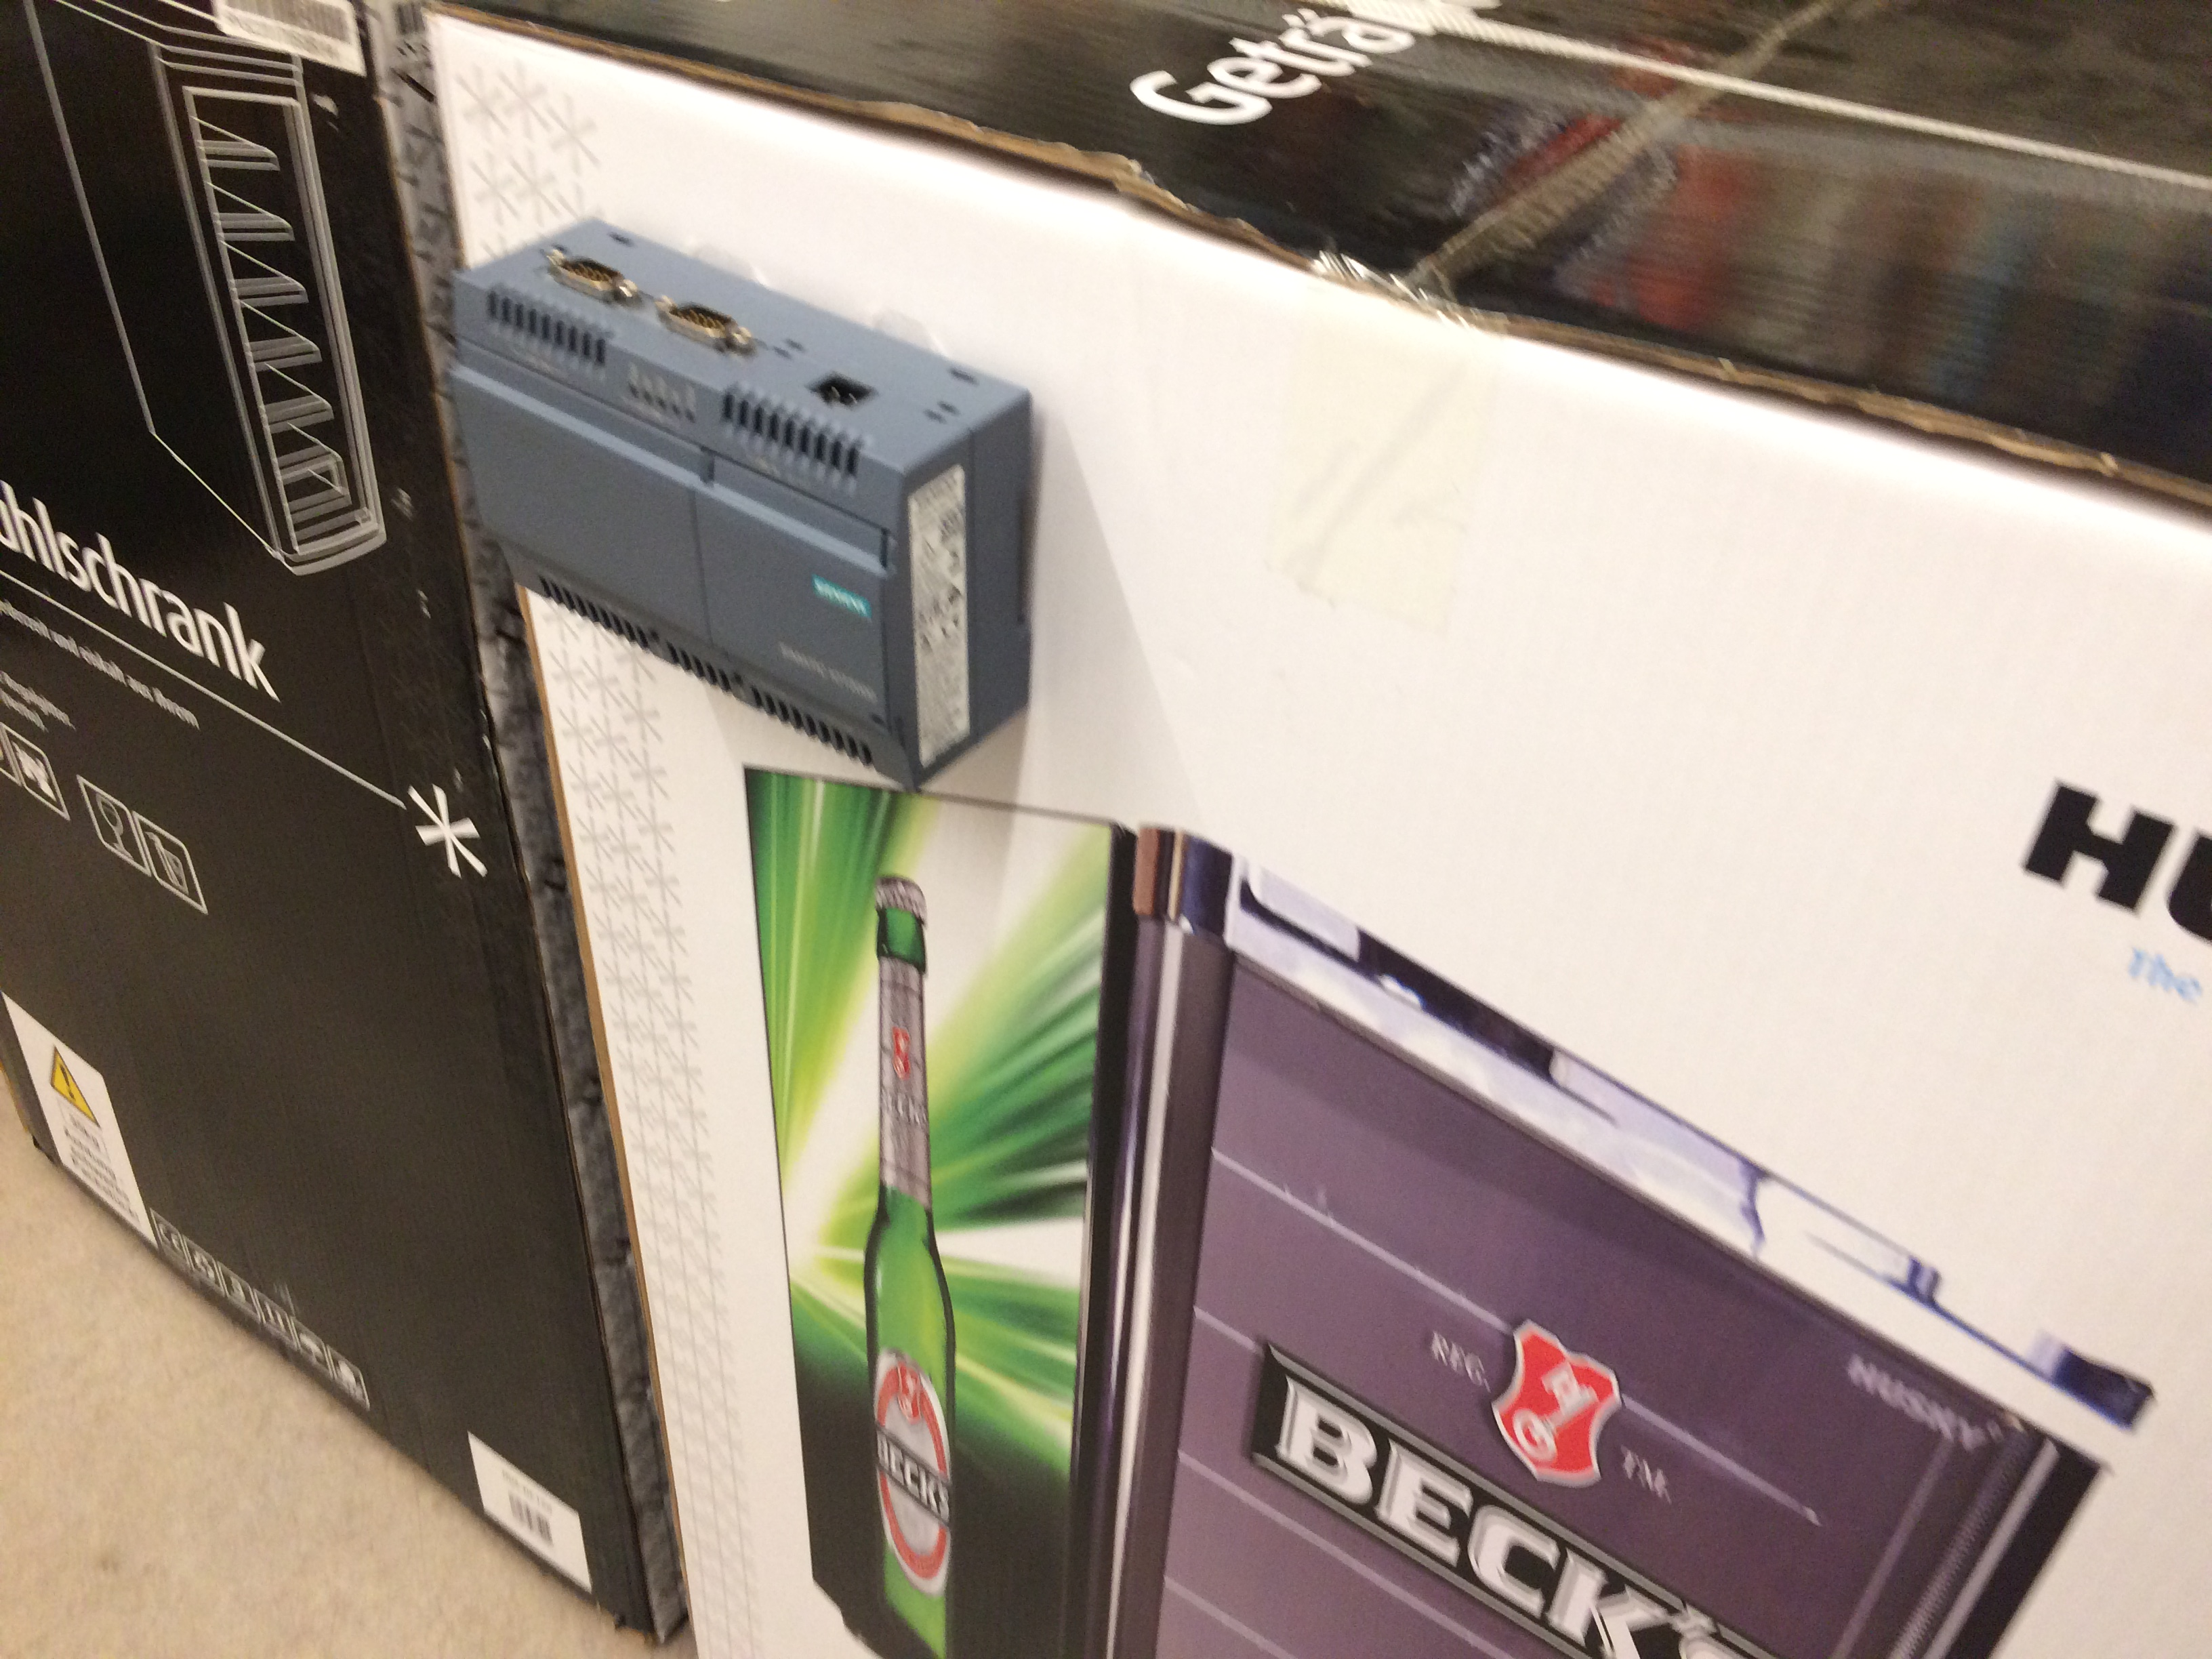iot2000: (444, 214, 1040, 798)
